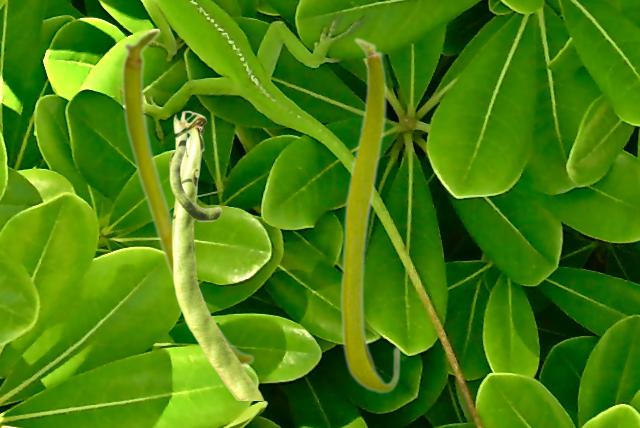french_bean: (120, 27, 254, 367), (168, 110, 263, 399), (339, 36, 400, 393)
